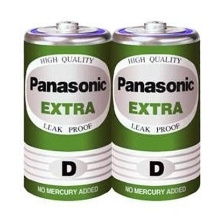battery: (105, 18, 203, 203), (20, 18, 118, 203)
